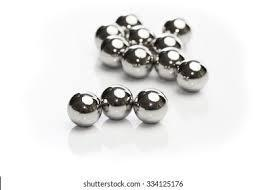steelball: (131, 87, 169, 126), (99, 81, 133, 123), (65, 88, 101, 127)
